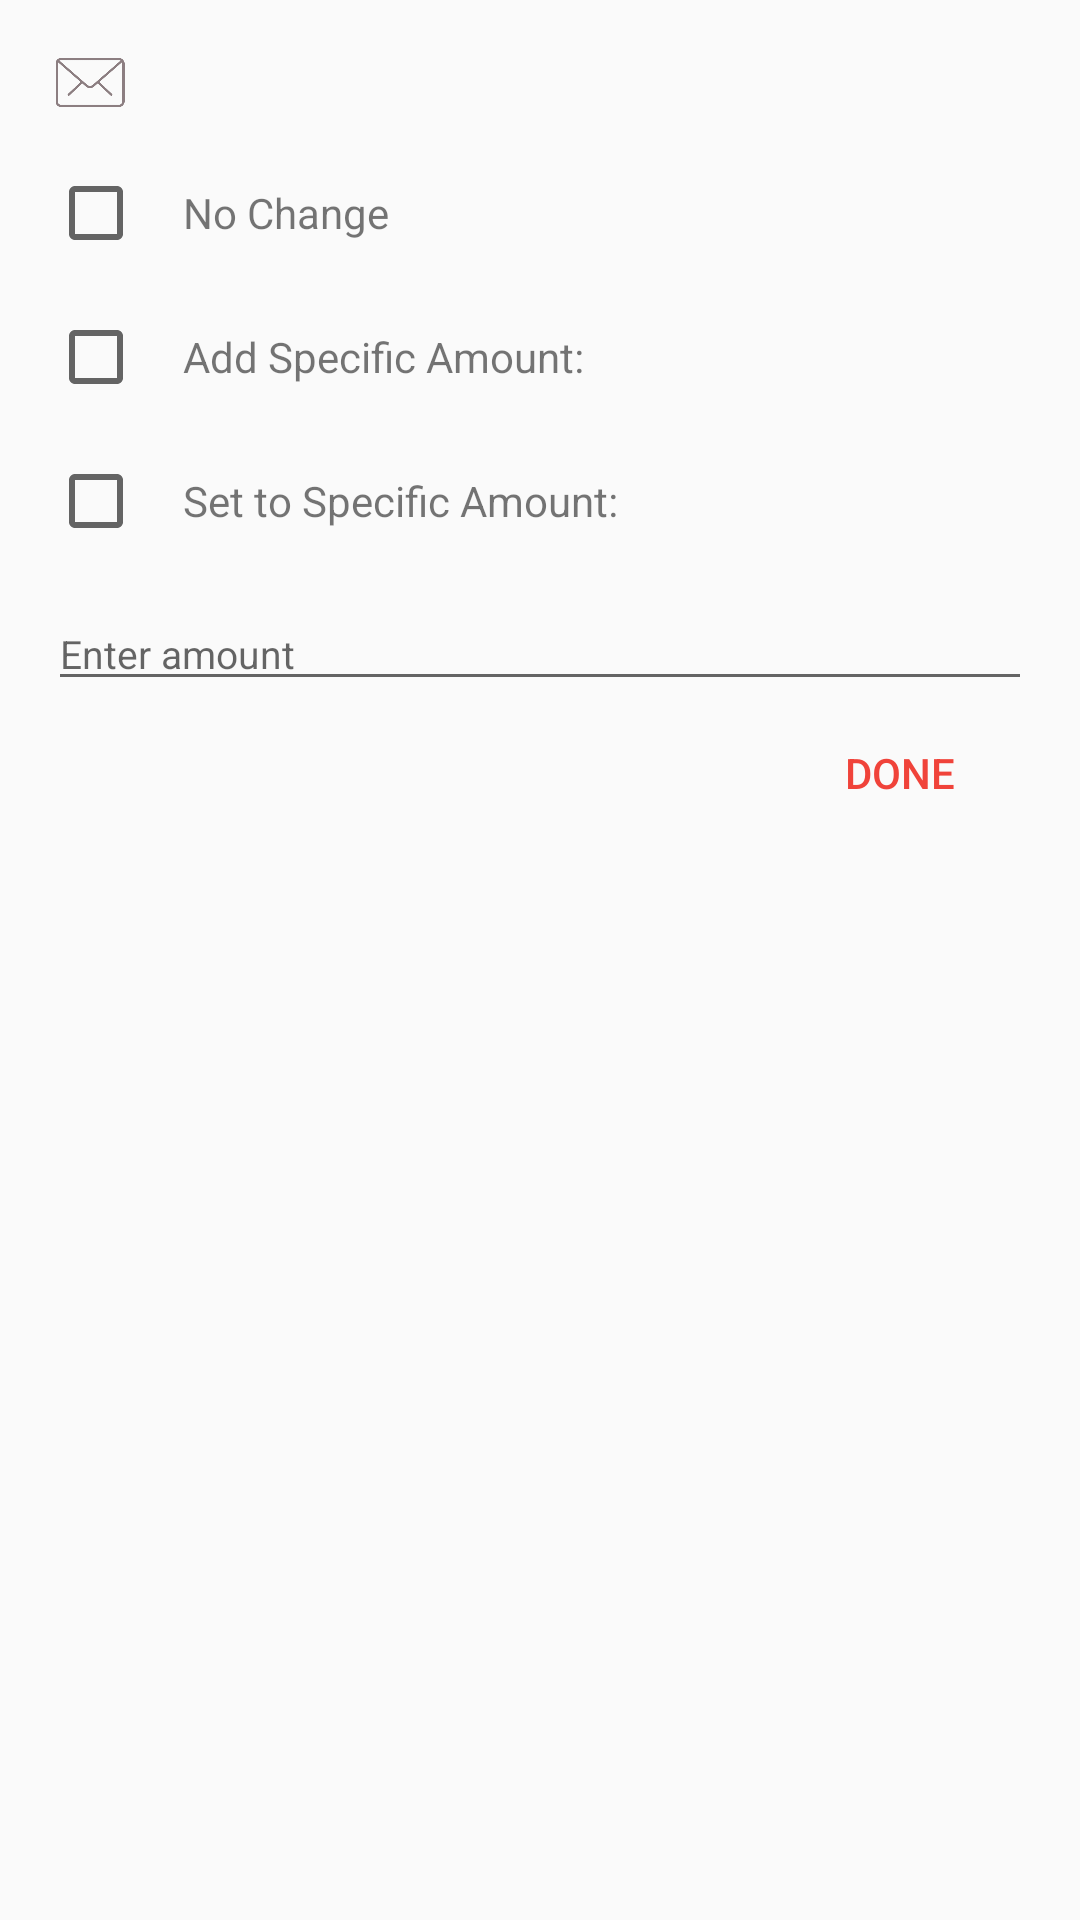

Icon bounding boxes for this 1080w x 1920h phone screenshot, format (x1, y1, x2, y2):
mail: (56, 58, 125, 107)
